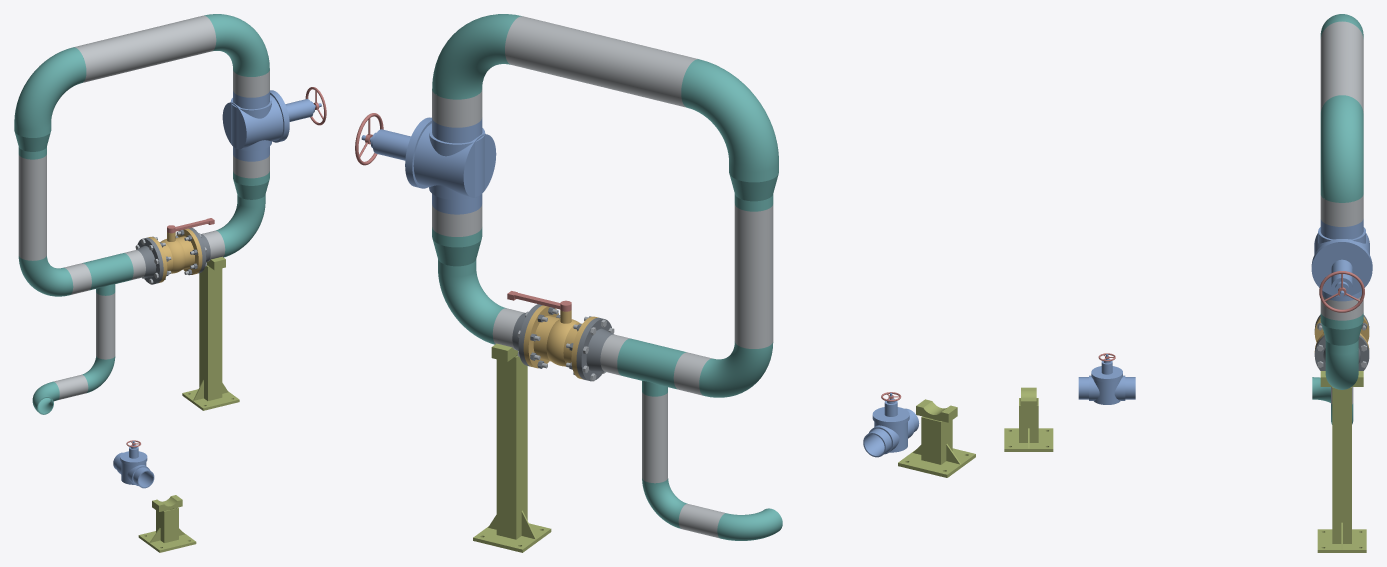
File: step_80.glb
3 views of the same model, side by side, from view 1: azimuth 30°, elevation 25°; view 2: azimuth 150°, elevation 25°; view 3: azimuth 270°, elevation 25° (orthographic). The views are drawn at different scales.
Parts seen in each view (by area): view 1: part__8" pipe, top run, 890 long, part__pipe support SP-101, tall, part__8" gate valve body GV-101, part__8" elbow top left, part__6" pipe, left riser, 664 long, part__8" elbow top right, part__pipe support SP-101, short, part__6" ball valve body BV-101, part__6" elbow bottom left, part__6" x 4" reducing tee, part__6" elbow bottom right, part__4" pipe, branch drop, 418 long (+13 smaller); view 2: part__8" pipe, top run, 890 long, part__pipe support SP-101, tall, part__8" gate valve body GV-101, part__8" elbow top left, part__6" pipe, left riser, 664 long, part__8" elbow top right, part__pipe support SP-101, short, part__6" ball valve body BV-101, part__6" elbow bottom left, part__6" elbow bottom right, part__6" x 4" reducing tee, part__4" pipe, branch drop, 418 long (+12 smaller); view 3: part__8" elbow top right, part__pipe support SP-101, tall, part__8" pipe, top run, 890 long, part__8" gate valve bonnet and stem, part__pipe support SP-101, short, part__4" needle valve body NV-101, part__reducer right leg, part__8" gate valve body GV-101, part__6" elbow bottom right, part__8" pipe, right leg above the gate valve, 136 long, part__8" pipe, right leg below the gate valve, 109 long, part__8" gate valve handwheel (+2 smaller).
Boxes of the visible parts, x1,y1,x2,y2 form: part__8" pipe, top run, 890 long: (74,15,216,82); part__pipe support SP-101, tall: (182,256,239,410); part__8" gate valve body GV-101: (222,91,287,161); part__8" elbow top left: (14,47,86,130); part__6" pipe, left riser, 664 long: (18,154,46,260); part__8" elbow top right: (204,14,269,76); part__pipe support SP-101, short: (138,495,196,552); part__6" ball valve body BV-101: (148,228,202,282); part__6" elbow bottom left: (18,256,73,296); part__6" x 4" reducing tee: (82,253,133,295); part__6" elbow bottom right: (216,202,265,257); part__4" pipe, branch drop, 418 long: (96,292,115,359); part__8" pipe, top run, 890 long: (505,16,698,107); part__pipe support SP-101, tall: (473,343,551,552); part__8" gate valve body GV-101: (408,117,496,214); part__8" elbow top left: (681,59,778,171); part__6" pipe, left riser, 664 long: (734,203,773,348); part__8" elbow top right: (432,14,521,99); part__pipe support SP-101, short: (898,399,975,477); part__6" ball valve body BV-101: (523,305,597,379); part__6" elbow bottom left: (699,341,773,397); part__6" elbow bottom right: (438,270,506,344); part__6" x 4" reducing tee: (617,338,686,396); part__4" pipe, branch drop, 418 long: (642,392,667,483); part__8" elbow top right: (1320,95,1363,202); part__pipe support SP-101, tall: (1317,371,1366,552); part__8" pipe, top run, 890 long: (1320,21,1363,112); part__8" gate valve bonnet and stem: (1311,240,1372,297); part__pipe support SP-101, short: (1004,387,1053,451); part__4" needle valve body NV-101: (1078,375,1135,404); part__reducer right leg: (1320,312,1363,354); part__8" gate valve body GV-101: (1311,219,1372,301); part__6" elbow bottom right: (1325,348,1358,389); part__8" pipe, right leg above the gate valve, 136 long: (1320,195,1363,226); part__8" pipe, right leg below the gate valve, 109 long: (1320,296,1363,320); part__8" gate valve handwheel: (1319,271,1364,312).
Bounding box in the file's own units: 2102 × 2510 × 1881.
